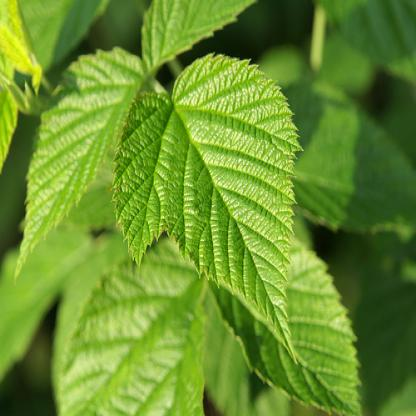raspberry leaf: (116, 51, 299, 344)
